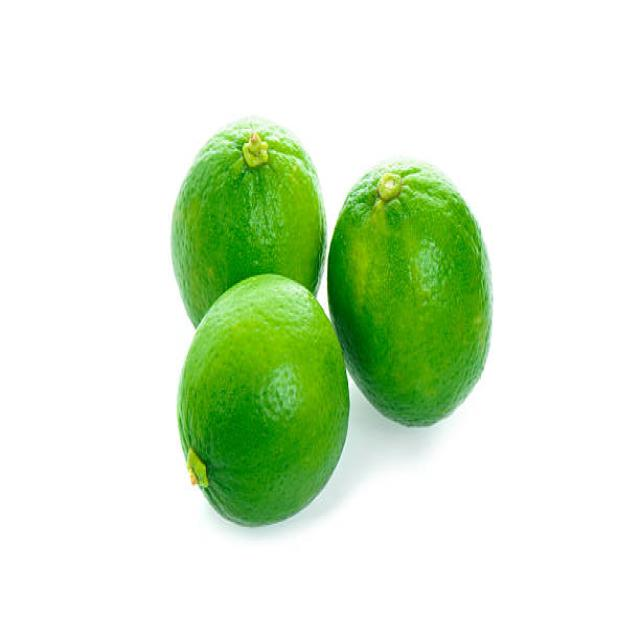Unripe: (177, 270, 350, 529), (329, 165, 493, 428)
